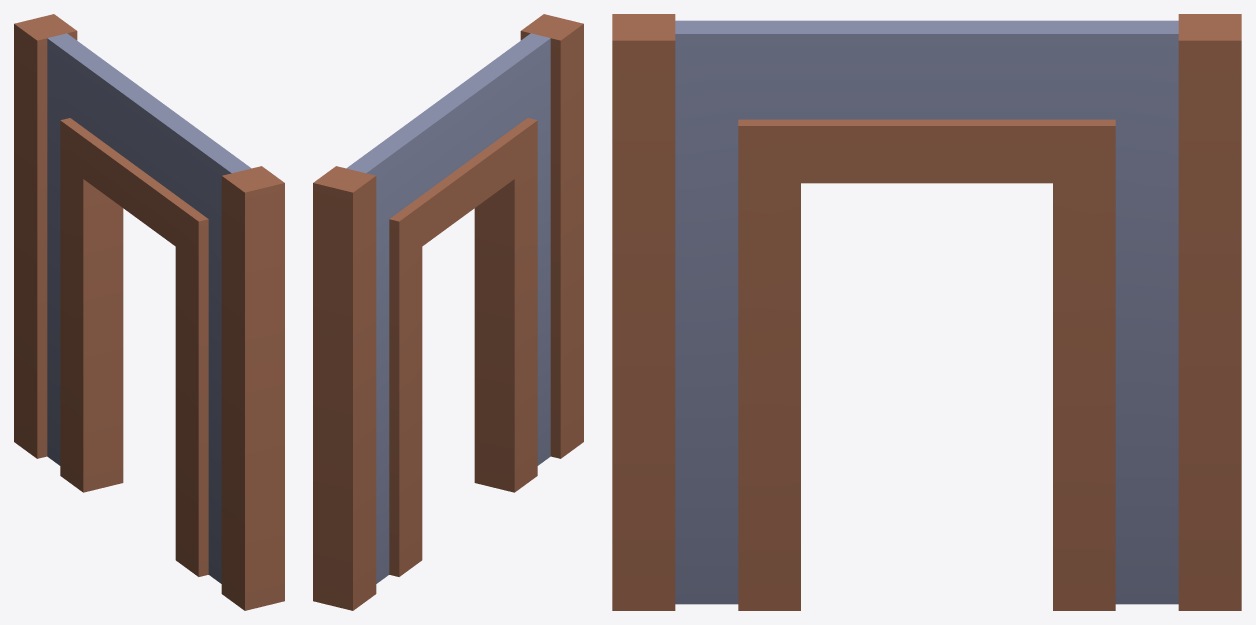
File: wall-doorway-square.glb
3 renders of one model, left to right at view 1: azimuth 30°, elevation 25°; view 2: azimuth 150°, elevation 25°; view 3: azimuth 270°, elevation 25°, orthographic. The views are drawn at different scales.
Visible parts, largest first — view 1: wall-doorway-square; view 2: wall-doorway-square; view 3: wall-doorway-square.
Part boxes in pixels (x1,y1,x2,y2): wall-doorway-square: [14, 14, 284, 610]; wall-doorway-square: [313, 14, 583, 610]; wall-doorway-square: [612, 14, 1241, 610].
Size of the model in its own units: 0.1 by 1 by 1.
